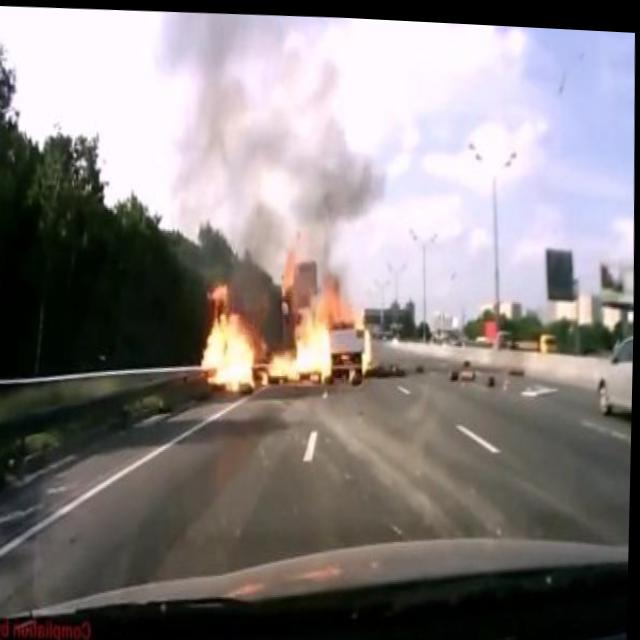fire: (264, 261, 336, 390), (196, 270, 262, 398), (351, 299, 378, 375)
